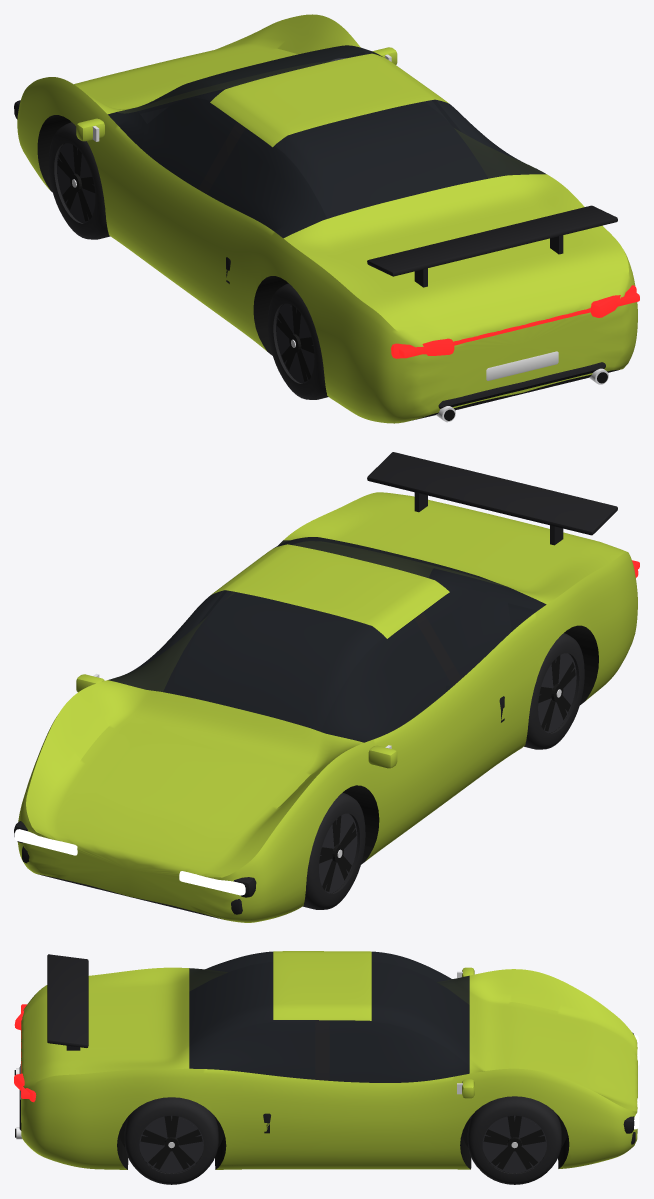
The model's file is porsche_718_cayman_gt4.glb.
The picture shows the model from 3 angles, top to bottom: view 1: azimuth 30°, elevation 25°; view 2: azimuth 150°, elevation 25°; view 3: azimuth 270°, elevation 25°; orthographic projection. The views are drawn at different scales.
Visible parts, largest first — view 1: Body, Wheel_FL, Wheel_RL; view 2: Body, Wheel_FL, Wheel_RL; view 3: Body, Wheel_FR, Wheel_RR.
Part boxes in pixels (x1,y1,x2,y2): Body: (14,14,639,423); Wheel_FL: (48,122,110,239); Wheel_RL: (268,283,328,399); Body: (14,452,639,922); Wheel_FL: (302,792,365,909); Wheel_RL: (524,633,584,749); Body: (14,951,639,1169); Wheel_FR: (467,1096,561,1184); Wheel_RR: (124,1097,218,1184).
Bounding box in the file's own units: 2.07 × 1.27 × 4.52.
